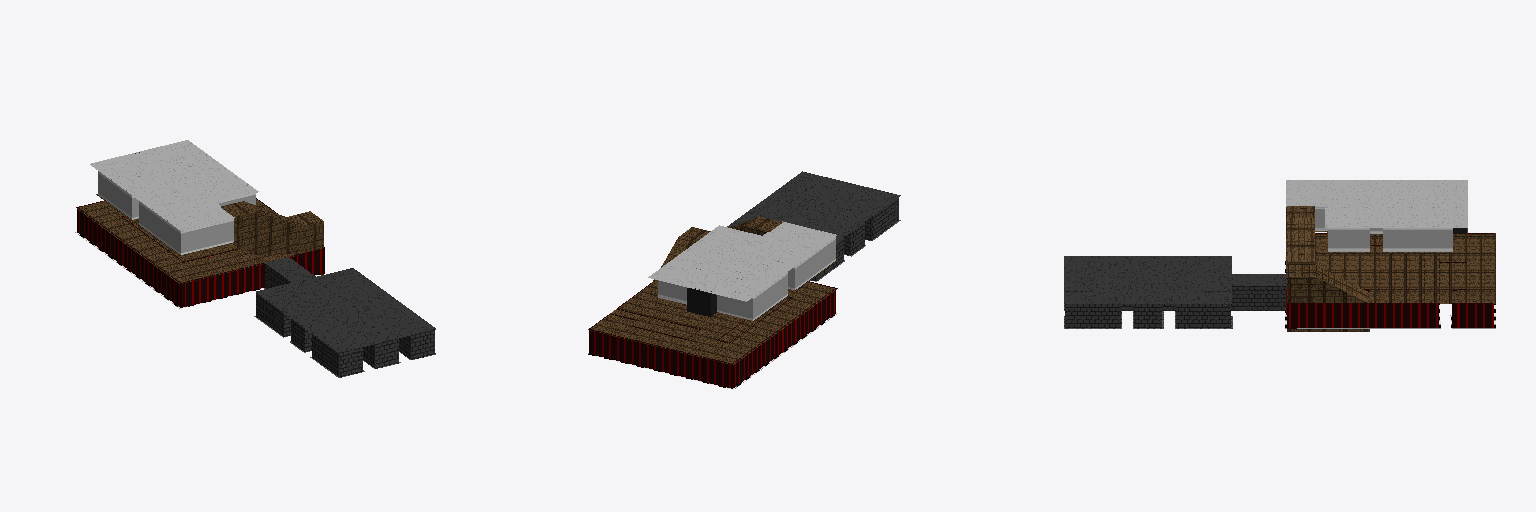
3 renders of one model, left to right at view 1: azimuth 30°, elevation 25°; view 2: azimuth 150°, elevation 25°; view 3: azimuth 270°, elevation 25°, orthographic.
Parts seen in each view (by area): view 1: Basement_roof_Plane.005, lvl1_roof_Mesh, lvl2_walls_Plane.009, Basement_walls_Plane, lvl2_roof_Plane.002, stare_walls_Plane.006, lvl1_walls; view 2: lvl2_roof_Plane.002, lvl1_roof_Mesh, lvl2_walls_Plane.009, Basement_roof_Plane.005, lvl1_walls, Basement_walls_Plane, stare_walls_Plane.006, lvl1_walls.001; view 3: lvl2_roof_Plane.002, Basement_roof_Plane.005, lvl1_roof_Mesh, lvl2_walls_Plane.009, Basement_walls_Plane, stare_walls_Plane.006, lvl1_walls.
Boxes of the visible parts, x1,y1,x2,y2 form: Basement_roof_Plane.005: [256, 257, 435, 352]; lvl1_roof_Mesh: [90, 140, 258, 230]; lvl2_walls_Plane.009: [77, 198, 324, 307]; Basement_walls_Plane: [256, 257, 434, 376]; lvl2_roof_Plane.002: [76, 199, 298, 283]; stare_walls_Plane.006: [221, 201, 323, 274]; lvl1_walls: [98, 149, 255, 254]; lvl2_roof_Plane.002: [588, 282, 837, 364]; lvl1_roof_Mesh: [648, 221, 836, 301]; lvl2_walls_Plane.009: [589, 281, 835, 388]; Basement_roof_Plane.005: [727, 171, 900, 242]; lvl1_walls: [658, 230, 835, 320]; Basement_walls_Plane: [731, 172, 898, 280]; stare_walls_Plane.006: [652, 216, 782, 284]; lvl1_walls.001: [687, 288, 716, 316]; lvl2_roof_Plane.002: [1286, 233, 1495, 303]; Basement_roof_Plane.005: [1064, 256, 1286, 303]; lvl1_roof_Mesh: [1286, 180, 1467, 227]; lvl2_walls_Plane.009: [1286, 233, 1493, 328]; Basement_walls_Plane: [1065, 286, 1285, 327]; stare_walls_Plane.006: [1286, 206, 1369, 331]; lvl1_walls: [1315, 207, 1452, 251].
Bounding box in the file's own units: 307 × 163 × 780.
Materials: 12 (11 with a texture image).